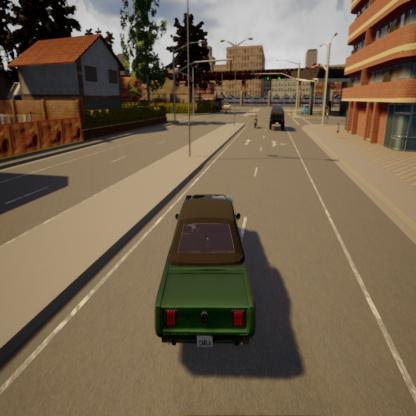Cars: (132, 181, 261, 369), (266, 103, 288, 133)
